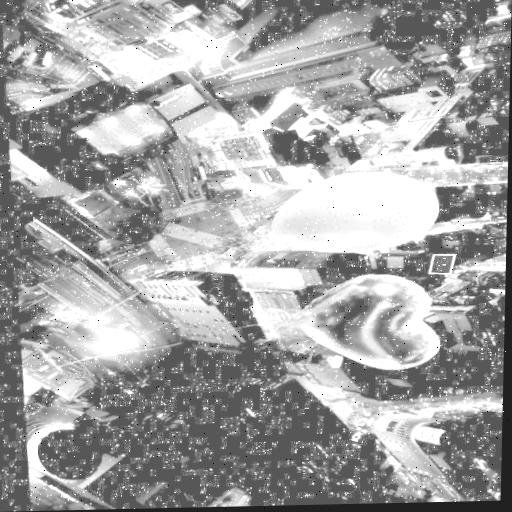balloon: (264, 169, 438, 254), (280, 275, 433, 371)
